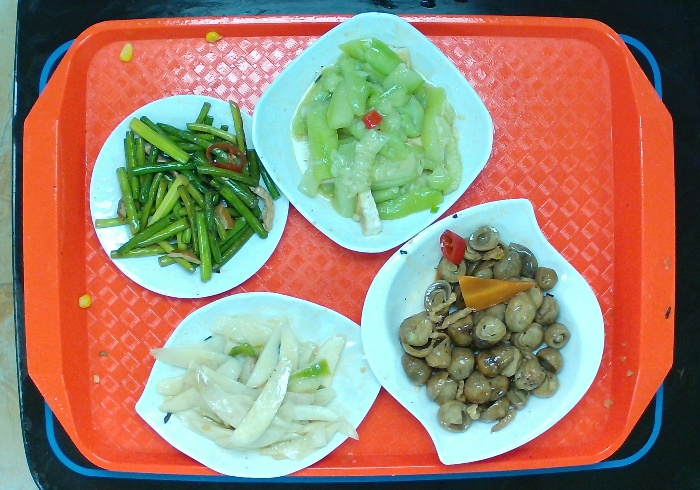RJxy-Da_Du_Pan: (130, 288, 380, 488)
RJxy-Shuang_Jiao_Pan: (362, 193, 606, 468)
RJxy-Si_Fang_Wan: (244, 14, 501, 258)
RJxy-Xiao_Yuan_Die: (86, 90, 292, 303)
